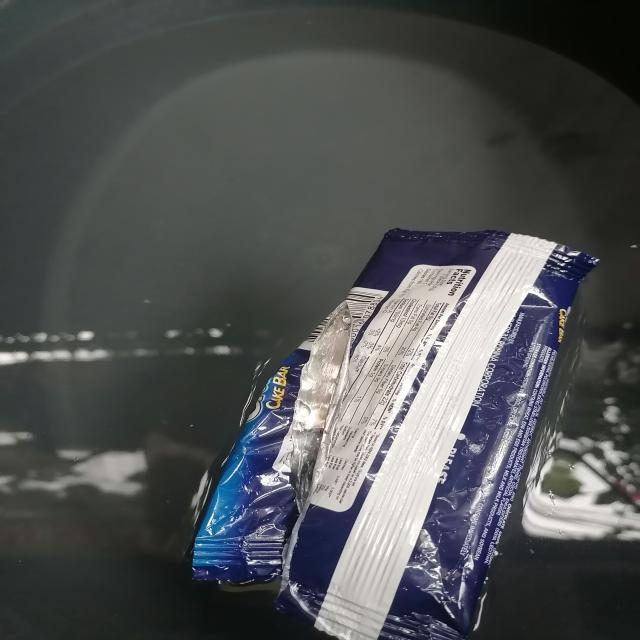Plastic Wrapper: (155, 209, 627, 640)
